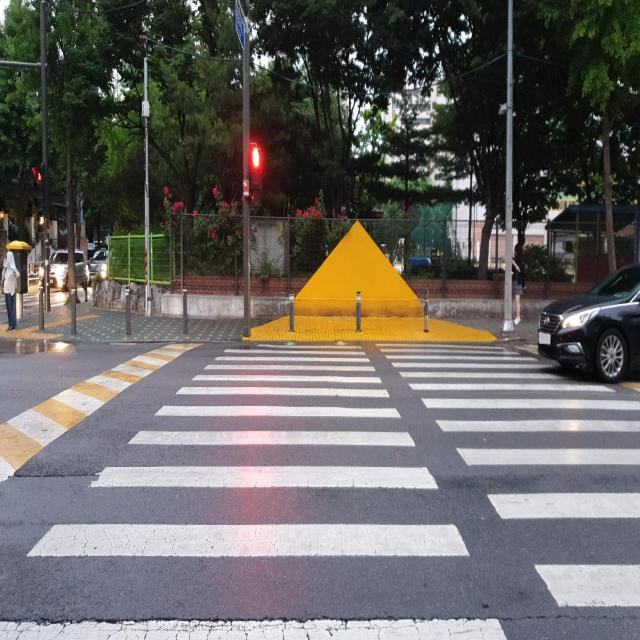빨간불: (250, 144, 264, 206)
횡단보도: (0, 339, 640, 639)
